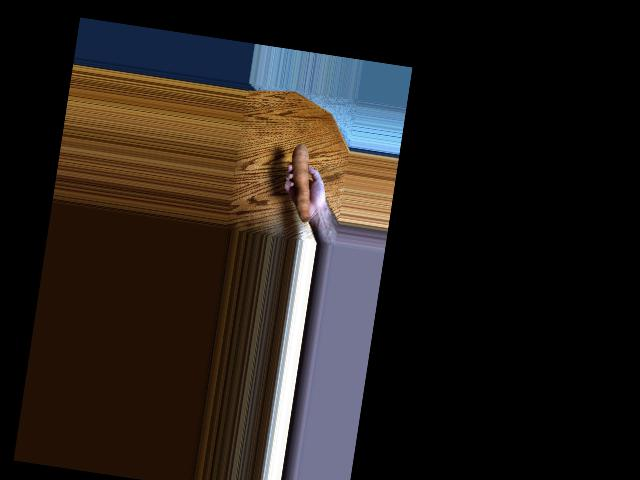sweet_potato: (279, 138, 324, 219)
